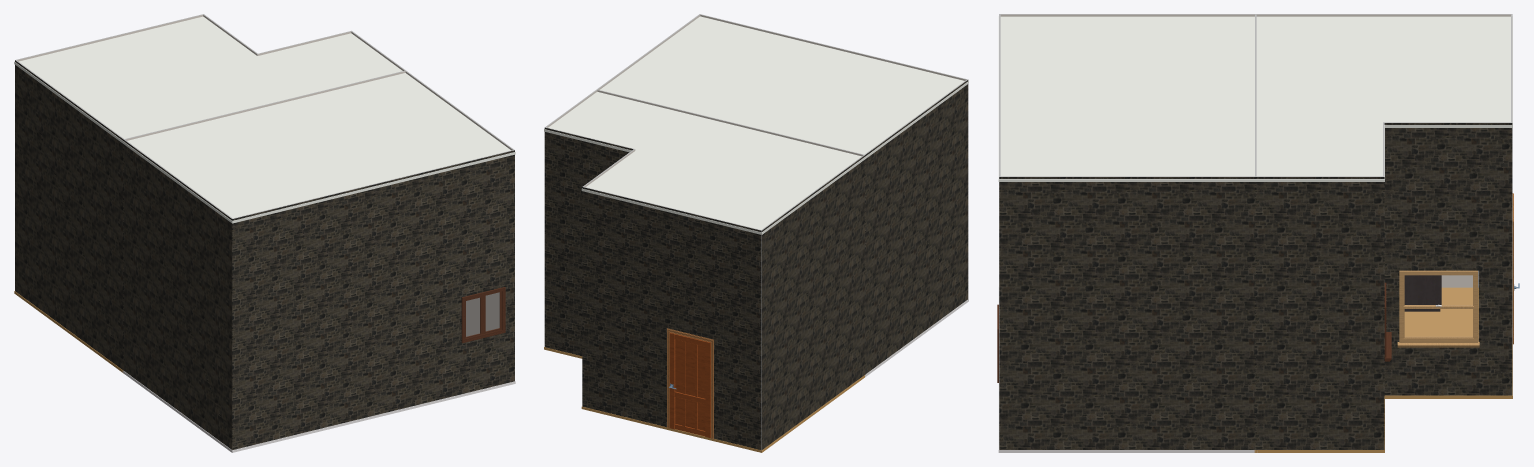
The model's file is ProcTHOR-Train-191.glb.
The picture shows the model from 3 angles, left to right: view 1: azimuth 30°, elevation 25°; view 2: azimuth 150°, elevation 25°; view 3: azimuth 270°, elevation 25°; orthographic projection. The views are drawn at different scales.
Parts seen in each view (by area): view 1: WallInside#wall|exterior|0.00|7.93|5.95|7.93, Ceiling#room|3|c, WallInside#wall|exterior|5.95|3.96|5.95|7.93, WallInside#wall|exterior|5.95|0.00|5.95|3.96, Ceiling#room|2|c, WallInside#wall|3|0.00|3.96|0.00|7.93, Floor#room|3|f, Window_Slider_36x36, WallInside#wall|3|0.00|3.96|5.95|3.96, WallInside#wall|2|1.98|0.00|5.95|0.00; view 2: WallInside#wall|exterior|1.98|0.00|5.95|0.00, Ceiling#room|3|c, Ceiling#room|2|c, WallInside#wall|exterior|5.95|0.00|5.95|3.96, WallInside#wall|exterior|5.95|3.96|5.95|7.93, WallInside#wall|exterior|0.00|1.98|1.98|1.98, Doorway_10, Floor#room|2|f, WallInside#wall|2|0.00|3.96|5.95|3.96, WallInside#wall|3|0.00|7.93|5.95|7.93; view 3: WallInside#wall|exterior|0.00|3.96|0.00|7.93, Ceiling#room|3|c, WallInside#wall|exterior|0.00|1.98|0.00|3.96, Ceiling#room|2|c, WallInside#wall|exterior|1.98|0.00|1.98|1.98, Floor#room|2|f, Window_Hung_48x44, Countertop_Island_8x3, WallInside#wall|2|5.95|0.00|5.95|3.96, Floor#room|3|f, WallInside#wall|3|5.95|3.96|5.95|7.93.
Boxes of the visible parts, left/top/right/bottom form: WallInside#wall|exterior|0.00|7.93|5.95|7.93: left=232, top=150, right=514, bottom=450; Ceiling#room|3|c: left=122, top=73, right=515, bottom=223; WallInside#wall|exterior|5.95|3.96|5.95|7.93: left=123, top=139, right=232, bottom=449; WallInside#wall|exterior|5.95|0.00|5.95|3.96: left=15, top=60, right=123, bottom=370; Ceiling#room|2|c: left=14, top=16, right=404, bottom=143; WallInside#wall|3|0.00|3.96|0.00|7.93: left=405, top=70, right=513, bottom=336; Floor#room|3|f: left=122, top=370, right=515, bottom=452; Window_Slider_36x36: left=461, top=287, right=505, bottom=343; WallInside#wall|3|0.00|3.96|5.95|3.96: left=125, top=71, right=405, bottom=140; WallInside#wall|2|1.98|0.00|5.95|0.00: left=16, top=14, right=203, bottom=61; WallInside#wall|exterior|1.98|0.00|5.95|0.00: left=582, top=187, right=761, bottom=450; Ceiling#room|3|c: left=598, top=16, right=968, bottom=159; Ceiling#room|2|c: left=544, top=91, right=865, bottom=234; WallInside#wall|exterior|5.95|0.00|5.95|3.96: left=761, top=155, right=865, bottom=449; WallInside#wall|exterior|5.95|3.96|5.95|7.93: left=864, top=80, right=968, bottom=374; WallInside#wall|exterior|0.00|1.98|1.98|1.98: left=544, top=127, right=633, bottom=356; Doorway_10: left=667, top=328, right=713, bottom=438; Floor#room|2|f: left=544, top=347, right=865, bottom=452; WallInside#wall|2|0.00|3.96|5.95|3.96: left=597, top=90, right=863, bottom=156; WallInside#wall|3|0.00|7.93|5.95|7.93: left=700, top=14, right=967, bottom=80; WallInside#wall|exterior|0.00|3.96|0.00|7.93: left=999, top=176, right=1256, bottom=449; Ceiling#room|3|c: left=998, top=16, right=1257, bottom=181; WallInside#wall|exterior|0.00|1.98|0.00|3.96: left=1255, top=176, right=1384, bottom=449; Ceiling#room|2|c: left=1254, top=16, right=1512, bottom=181; WallInside#wall|exterior|1.98|0.00|1.98|1.98: left=1384, top=122, right=1512, bottom=395; Floor#room|2|f: left=1254, top=287, right=1512, bottom=452; Window_Hung_48x44: left=1397, top=270, right=1479, bottom=347; Countertop_Island_8x3: left=1404, top=275, right=1441, bottom=311; WallInside#wall|2|5.95|0.00|5.95|3.96: left=1255, top=14, right=1511, bottom=287; Floor#room|3|f: left=998, top=287, right=1257, bottom=452; WallInside#wall|3|5.95|3.96|5.95|7.93: left=999, top=14, right=1254, bottom=16.
Size of what is drawn, in the model's own units: 5.99 by 4.71 by 8.09.
Materials: 163 (69 with a texture image).
